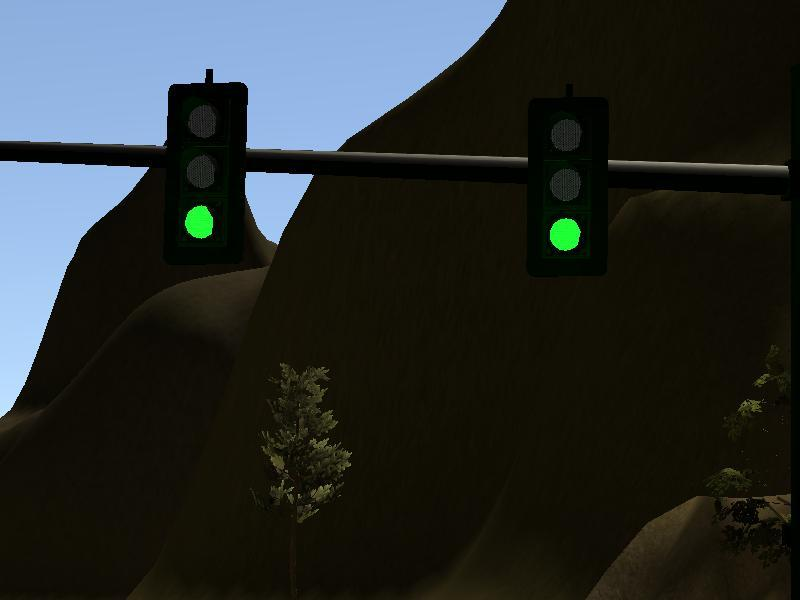Green: (164, 83, 248, 263), (527, 97, 608, 278)
